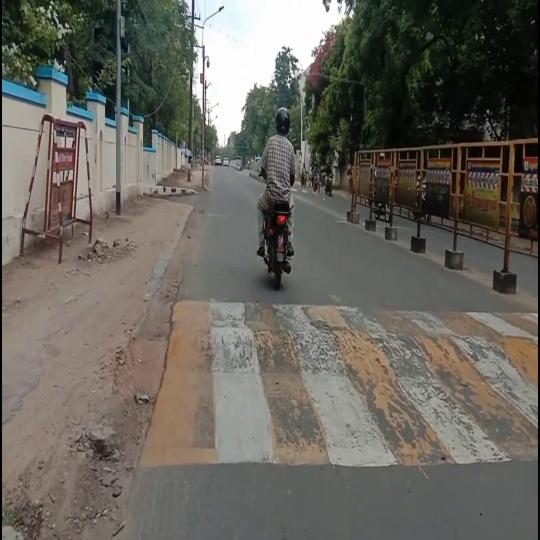Speed Bump: (136, 298, 539, 465)
